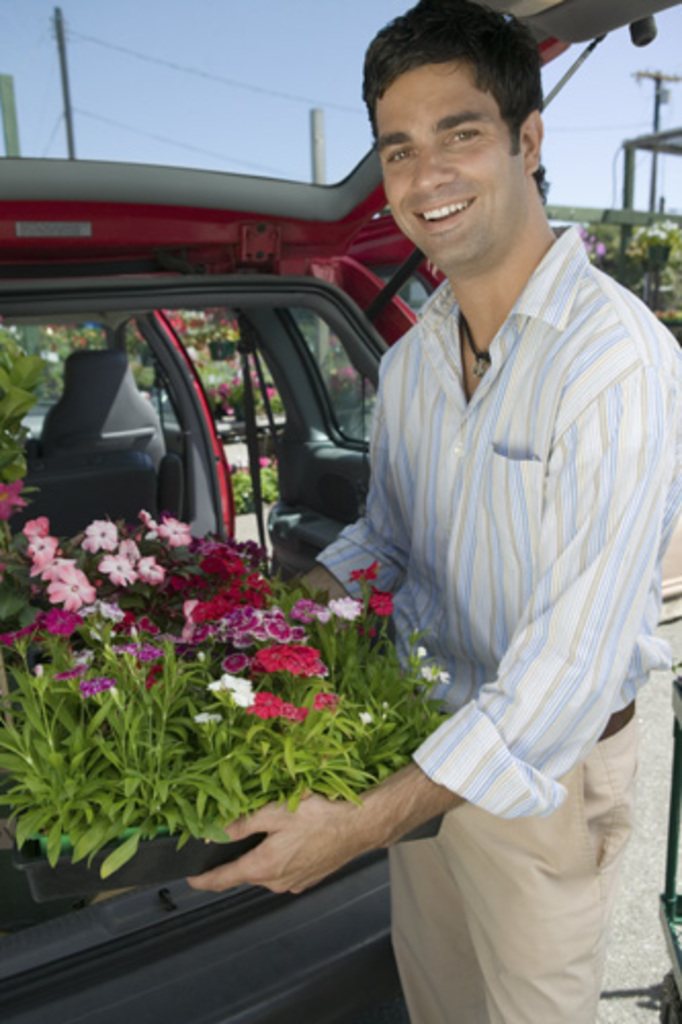Car: (0, 0, 679, 1021)
